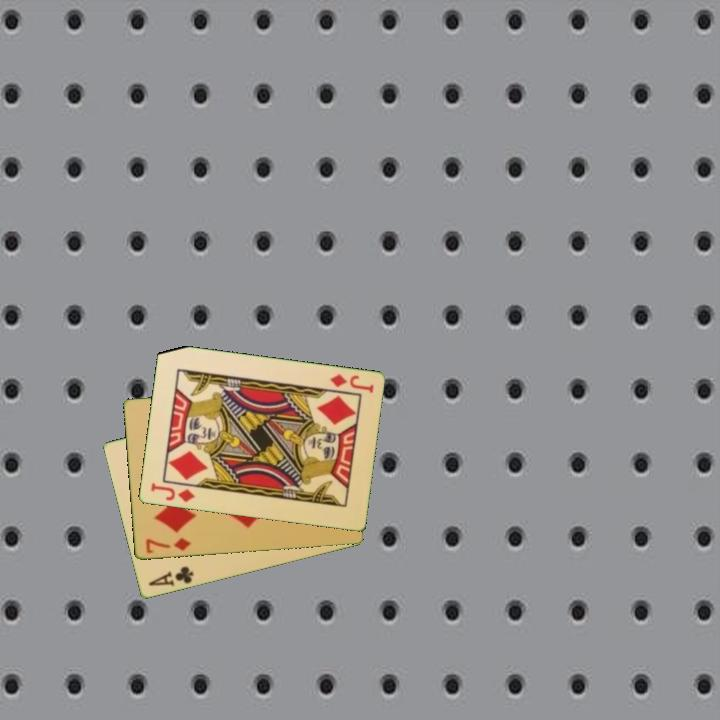7d: (142, 535, 193, 556)
Ac: (145, 563, 196, 589)
Jd: (147, 480, 197, 505), (326, 371, 376, 396)
